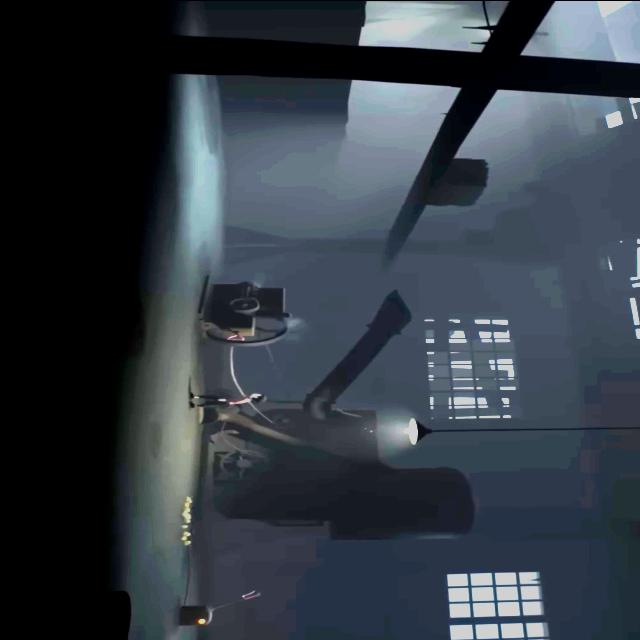boy: (190, 392, 267, 407)
